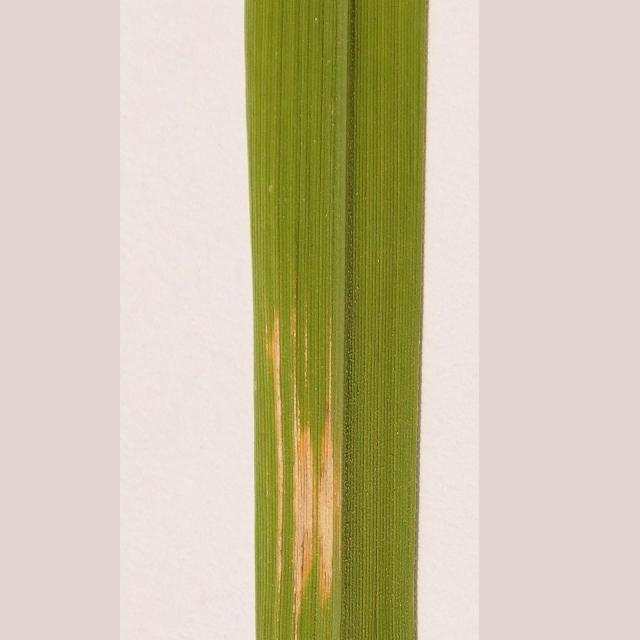Bacterial leaf blight: (262, 273, 351, 640)
